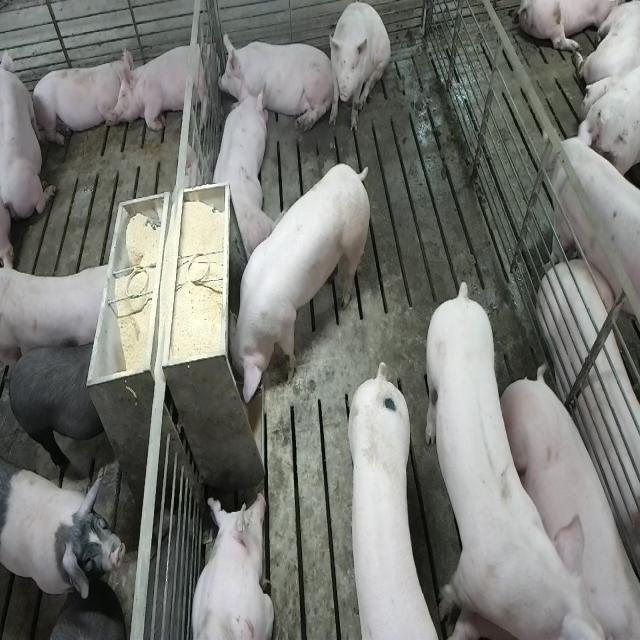Feeding: (230, 162, 376, 408)
Lateral_lying: (498, 370, 640, 640), (539, 260, 640, 594)
Sitting: (328, 3, 391, 138)
Standing: (428, 280, 599, 638), (346, 370, 433, 640), (550, 114, 640, 335), (3, 466, 127, 602), (5, 340, 111, 479), (3, 256, 119, 368), (35, 610, 127, 640)
Sternal_lying: (190, 486, 274, 640), (208, 82, 270, 263), (218, 32, 328, 132), (2, 38, 56, 222), (116, 35, 215, 135), (30, 51, 130, 149)
